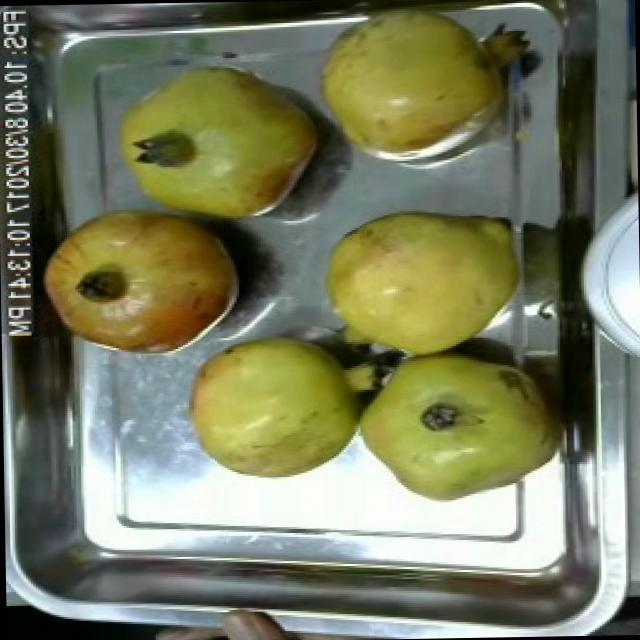fruit: (304, 196, 546, 366), (297, 0, 533, 174), (102, 56, 331, 232), (342, 343, 566, 510), (35, 197, 249, 361), (174, 322, 382, 487)
